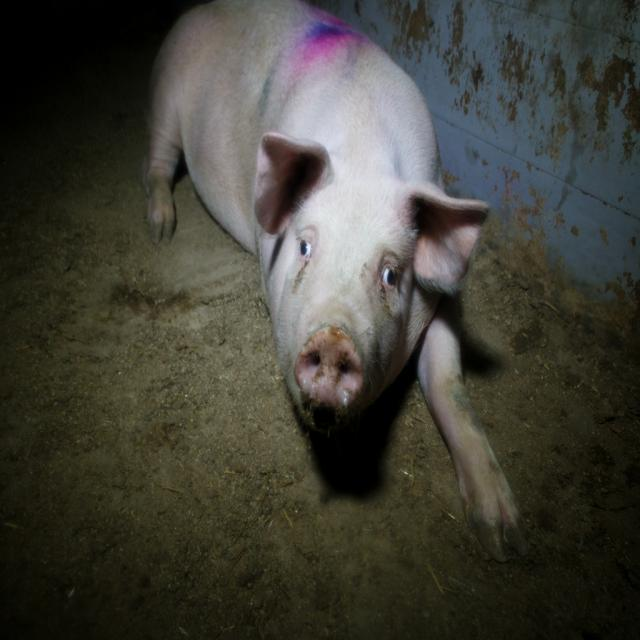Pig: (141, 0, 535, 555)
